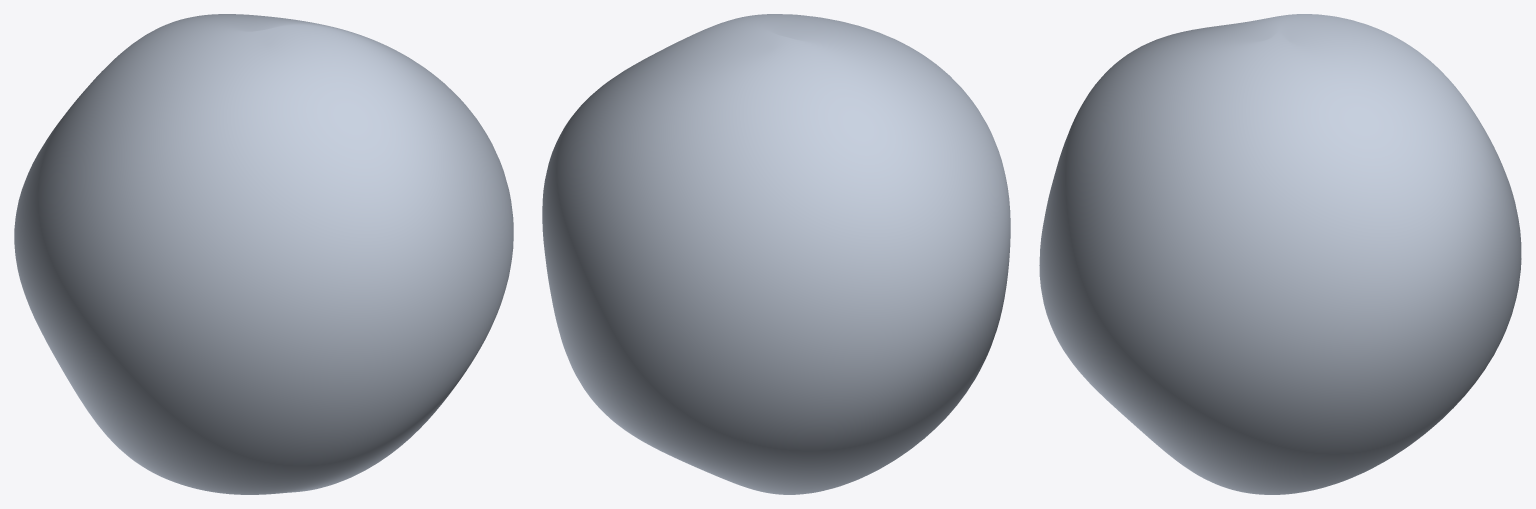
Rendered from liquid-orb.glb.
The picture shows the model from 3 angles, left to right: view 1: azimuth 30°, elevation 25°; view 2: azimuth 150°, elevation 25°; view 3: azimuth 270°, elevation 25°; orthographic projection. The views are drawn at different scales.
Visible parts, largest first — view 1: Liquid — hand-shaped glass; view 2: Liquid — hand-shaped glass; view 3: Liquid — hand-shaped glass.
Boxes of the visible parts, bbox=[...] form: Liquid — hand-shaped glass: bbox=[14, 14, 513, 494]; Liquid — hand-shaped glass: bbox=[542, 14, 1010, 494]; Liquid — hand-shaped glass: bbox=[1039, 14, 1521, 494].
Bounding box in the file's own units: 2.26 × 2.29 × 2.27.
